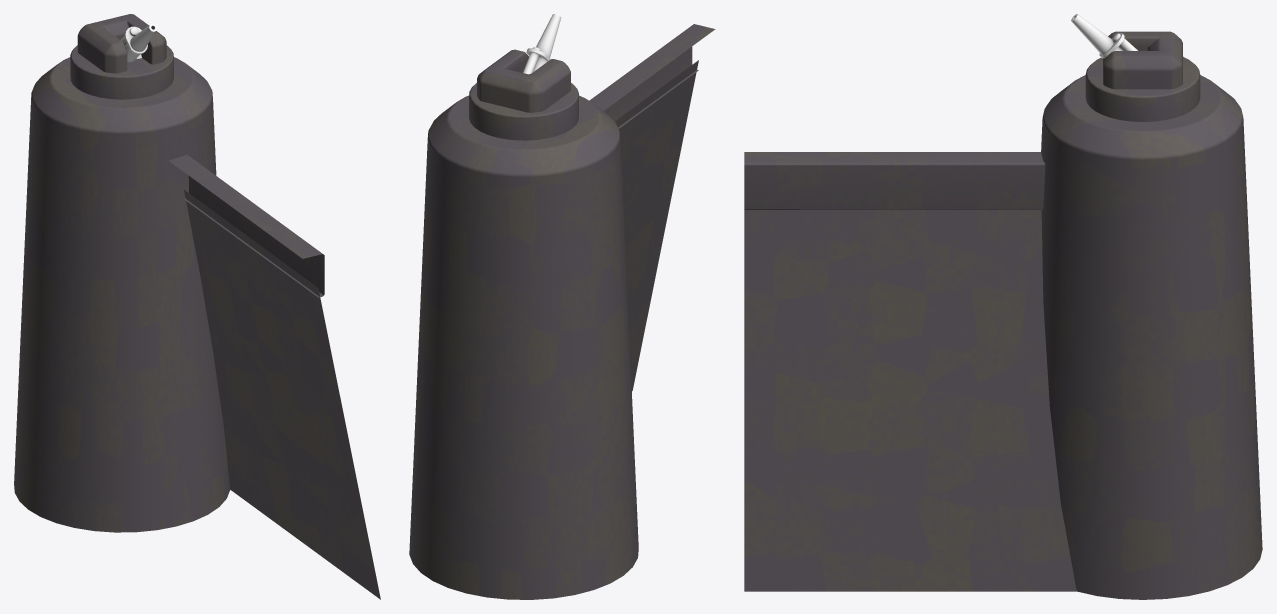
Rendered from Dam.glb.
The picture shows the model from 3 angles, left to right: view 1: azimuth 30°, elevation 25°; view 2: azimuth 150°, elevation 25°; view 3: azimuth 270°, elevation 25°; orthographic projection. The views are drawn at different scales.
Parts seen in each view (by area): view 1: Tower, Dam, Bunker, CoastalGun; view 2: Tower, Dam, Bunker, CoastalGun; view 3: Dam, Tower, Bunker, CoastalGun.
Part boxes in pixels (x1,y1,x2,y2): Tower: [14, 57, 230, 532]; Dam: [168, 154, 380, 599]; Bunker: [70, 14, 173, 99]; CoastalGun: [120, 23, 157, 62]; Tower: [409, 95, 638, 599]; Dam: [589, 24, 715, 391]; Bunker: [469, 49, 578, 140]; CoastalGun: [523, 14, 561, 74]; Dam: [744, 152, 1076, 591]; Tower: [1041, 75, 1262, 599]; Bunker: [1085, 31, 1200, 121]; CoastalGun: [1071, 14, 1137, 58].
Size of the model in its own units: 6 by 14.81 by 13.
Materials: 2 (2 with a texture image).
